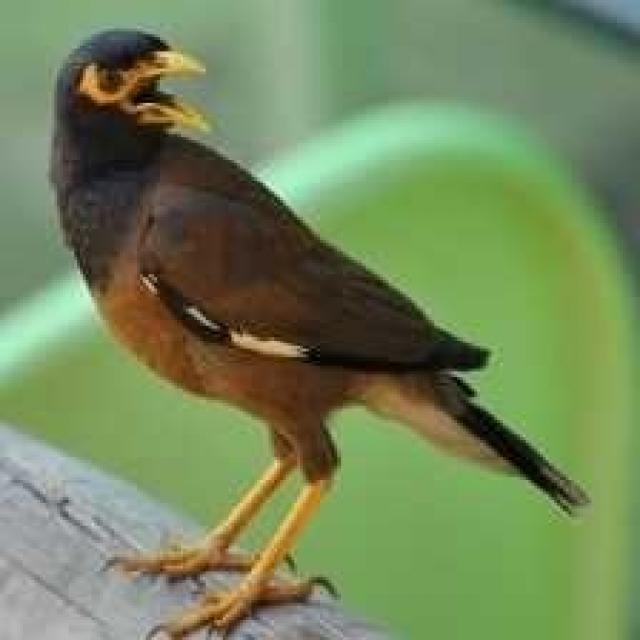bird: (46, 23, 594, 639)
